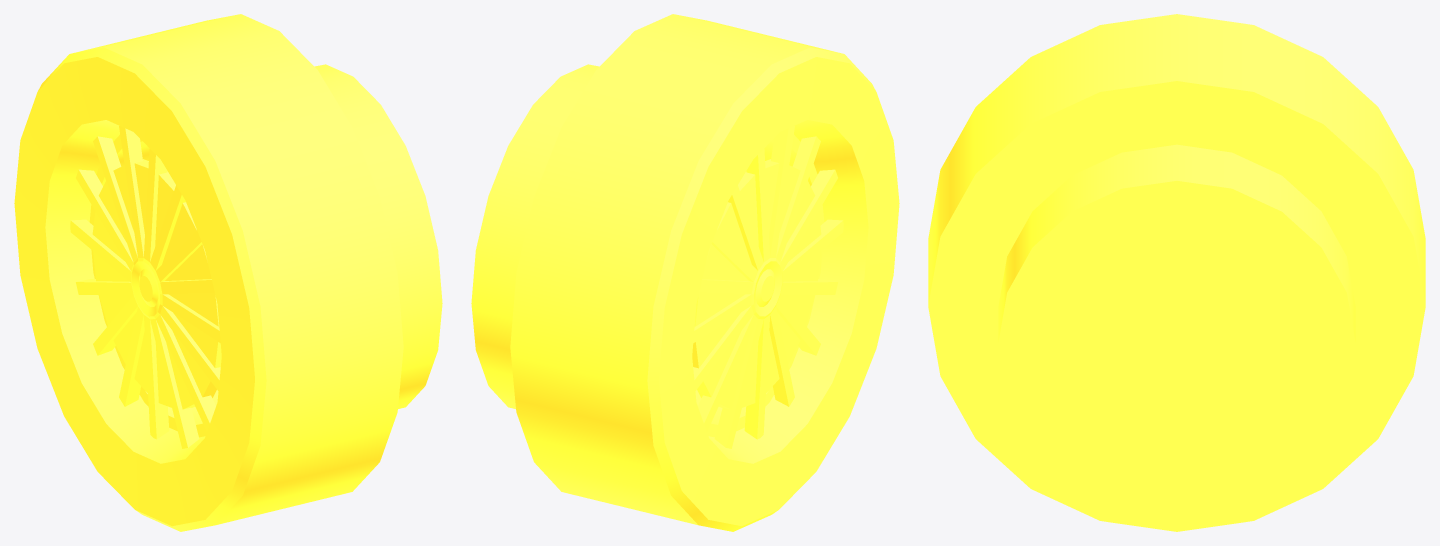
Rendered from delorean-gold-wheel.glb.
3 renders of one model, left to right at view 1: azimuth 30°, elevation 25°; view 2: azimuth 150°, elevation 25°; view 3: azimuth 270°, elevation 25°, orthographic.
Parts seen in each view (by area): view 1: model; view 2: model; view 3: model.
Boxes of the visible parts, x1,y1,x2,y2 form: model: (14, 14, 442, 531); model: (471, 14, 899, 531); model: (928, 14, 1425, 531).
Size of the model in its own units: 0.4331 by 0.848 by 0.848.
